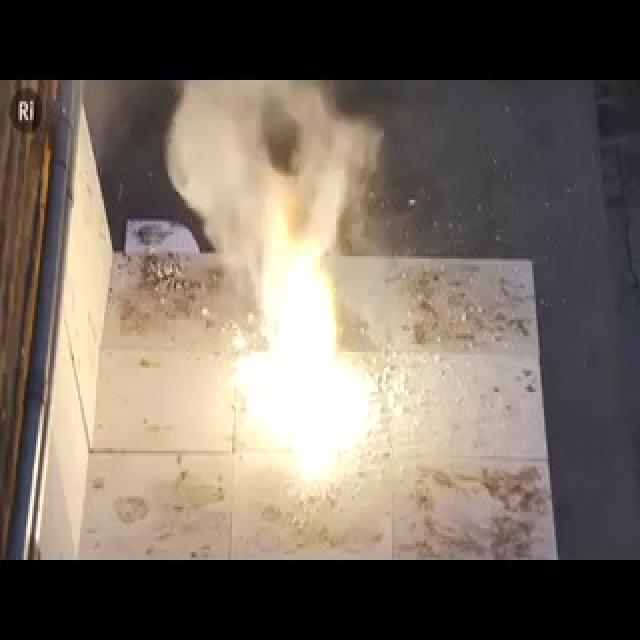fire: (232, 157, 374, 480)
